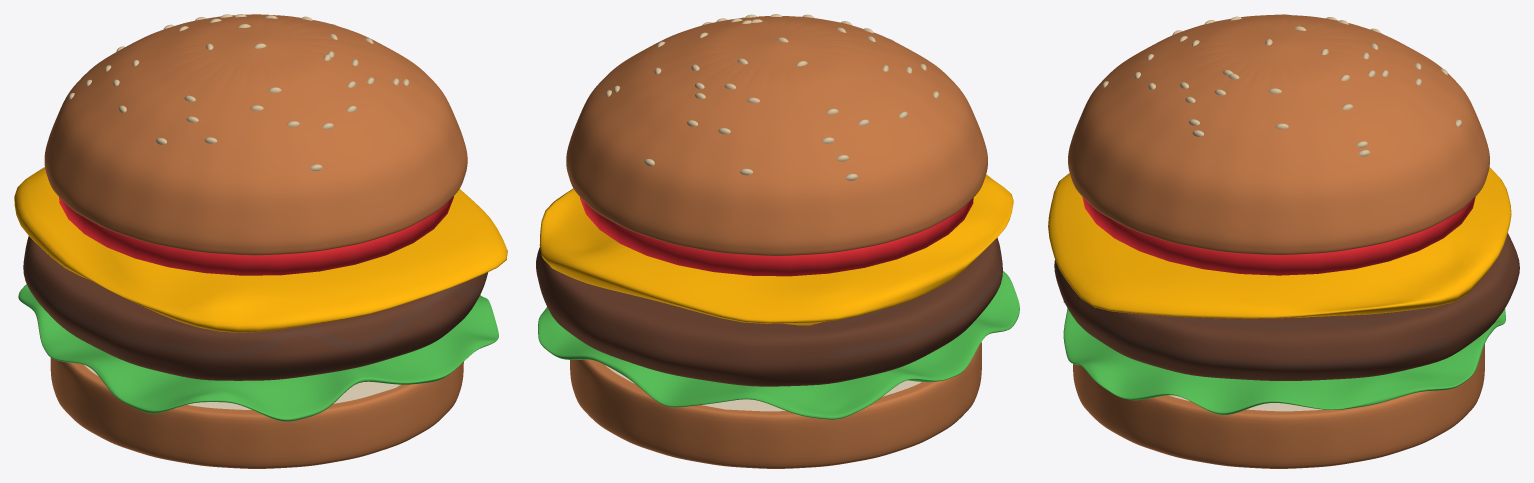
Rendered from BurgerV12.fbx.
3 views of the same model, side by side, from view 1: azimuth 30°, elevation 25°; view 2: azimuth 150°, elevation 25°; view 3: azimuth 270°, elevation 25° (orthographic).
Parts seen in each view (by area): view 1: Top Bun, Cheese, Patty, Bottom Bun, Salad, Tomato; view 2: Top Bun, Patty, Cheese, Bottom Bun, Salad, Tomato; view 3: Top Bun, Cheese, Patty, Bottom Bun, Salad, Tomato.
Boxes of the visible parts, x1,y1,x2,y2 form: Top Bun: (44,14,467,255); Cheese: (14,167,507,332); Patty: (23,236,488,380); Bottom Bun: (50,358,463,468); Salad: (18,284,498,421); Tomato: (59,196,453,275); Top Bun: (566,16,987,255); Patty: (536,238,1002,386); Cheese: (539,174,1013,325); Bottom Bun: (570,342,981,468); Salad: (538,271,1019,419); Tomato: (580,197,973,276); Top Bun: (1068,14,1489,254); Cheese: (1048,167,1511,318); Patty: (1054,233,1519,380); Bottom Bun: (1073,344,1484,468); Salad: (1063,301,1505,414); Tomato: (1082,197,1475,275).
Size of the model in its own units: 193 by 159 by 198.
Materials: 8 (2 with a texture image).
